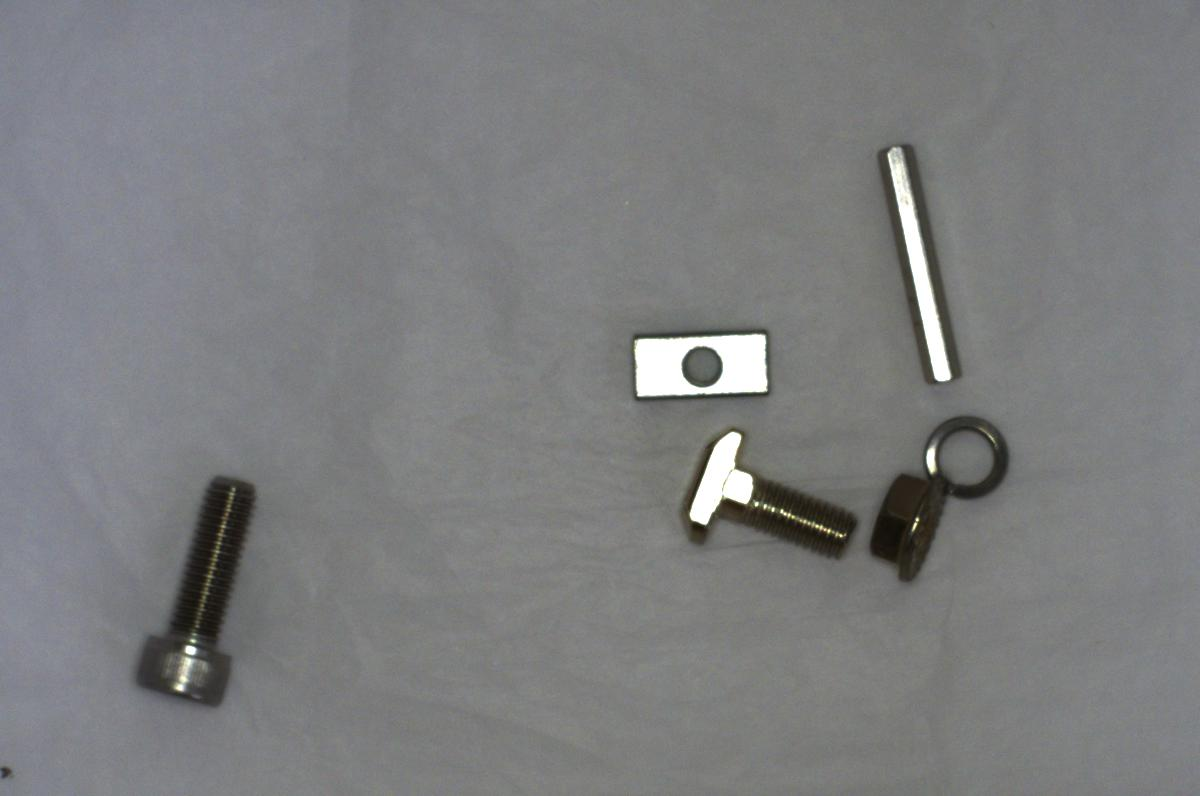Double hexagonal column: (876, 140, 962, 391)
Flange nut: (864, 464, 955, 589)
Hexagon screw: (138, 469, 256, 706)
Rectangular nut: (625, 313, 774, 412)
Spring washer: (923, 401, 1020, 500)
T-shaped screw: (667, 423, 853, 565)
